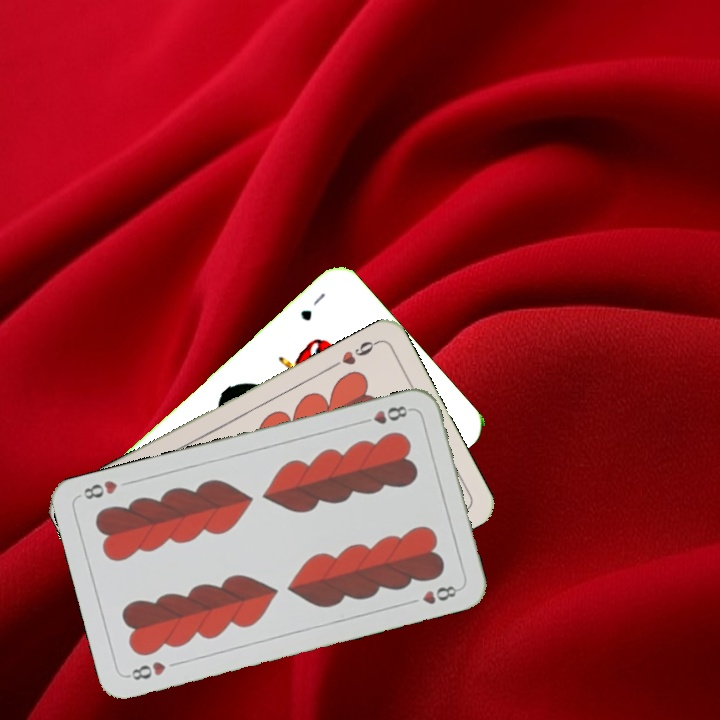GU: (296, 288, 329, 324)
H8: (356, 401, 414, 427), (123, 657, 169, 683)
H9: (327, 336, 381, 371)
